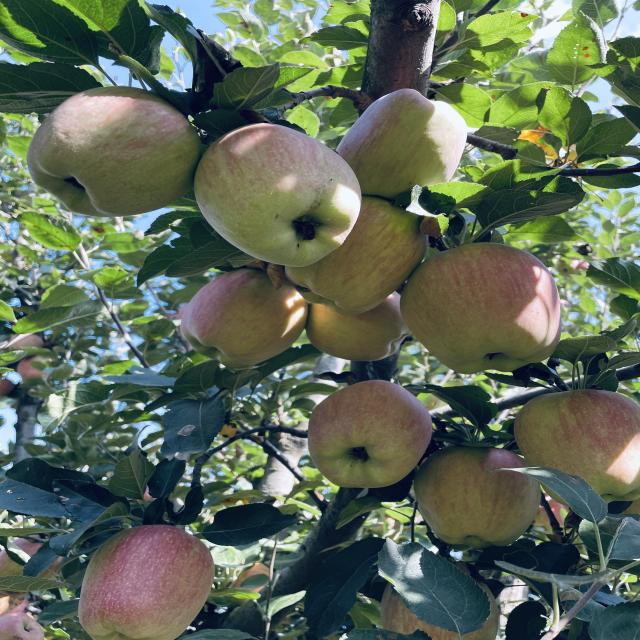Apple: (193, 124, 362, 266), (27, 86, 202, 216), (400, 242, 560, 374), (285, 196, 428, 315), (78, 525, 215, 640), (337, 89, 467, 199), (513, 390, 640, 496), (308, 380, 432, 488), (413, 446, 540, 549), (182, 269, 308, 368), (307, 292, 410, 361)
